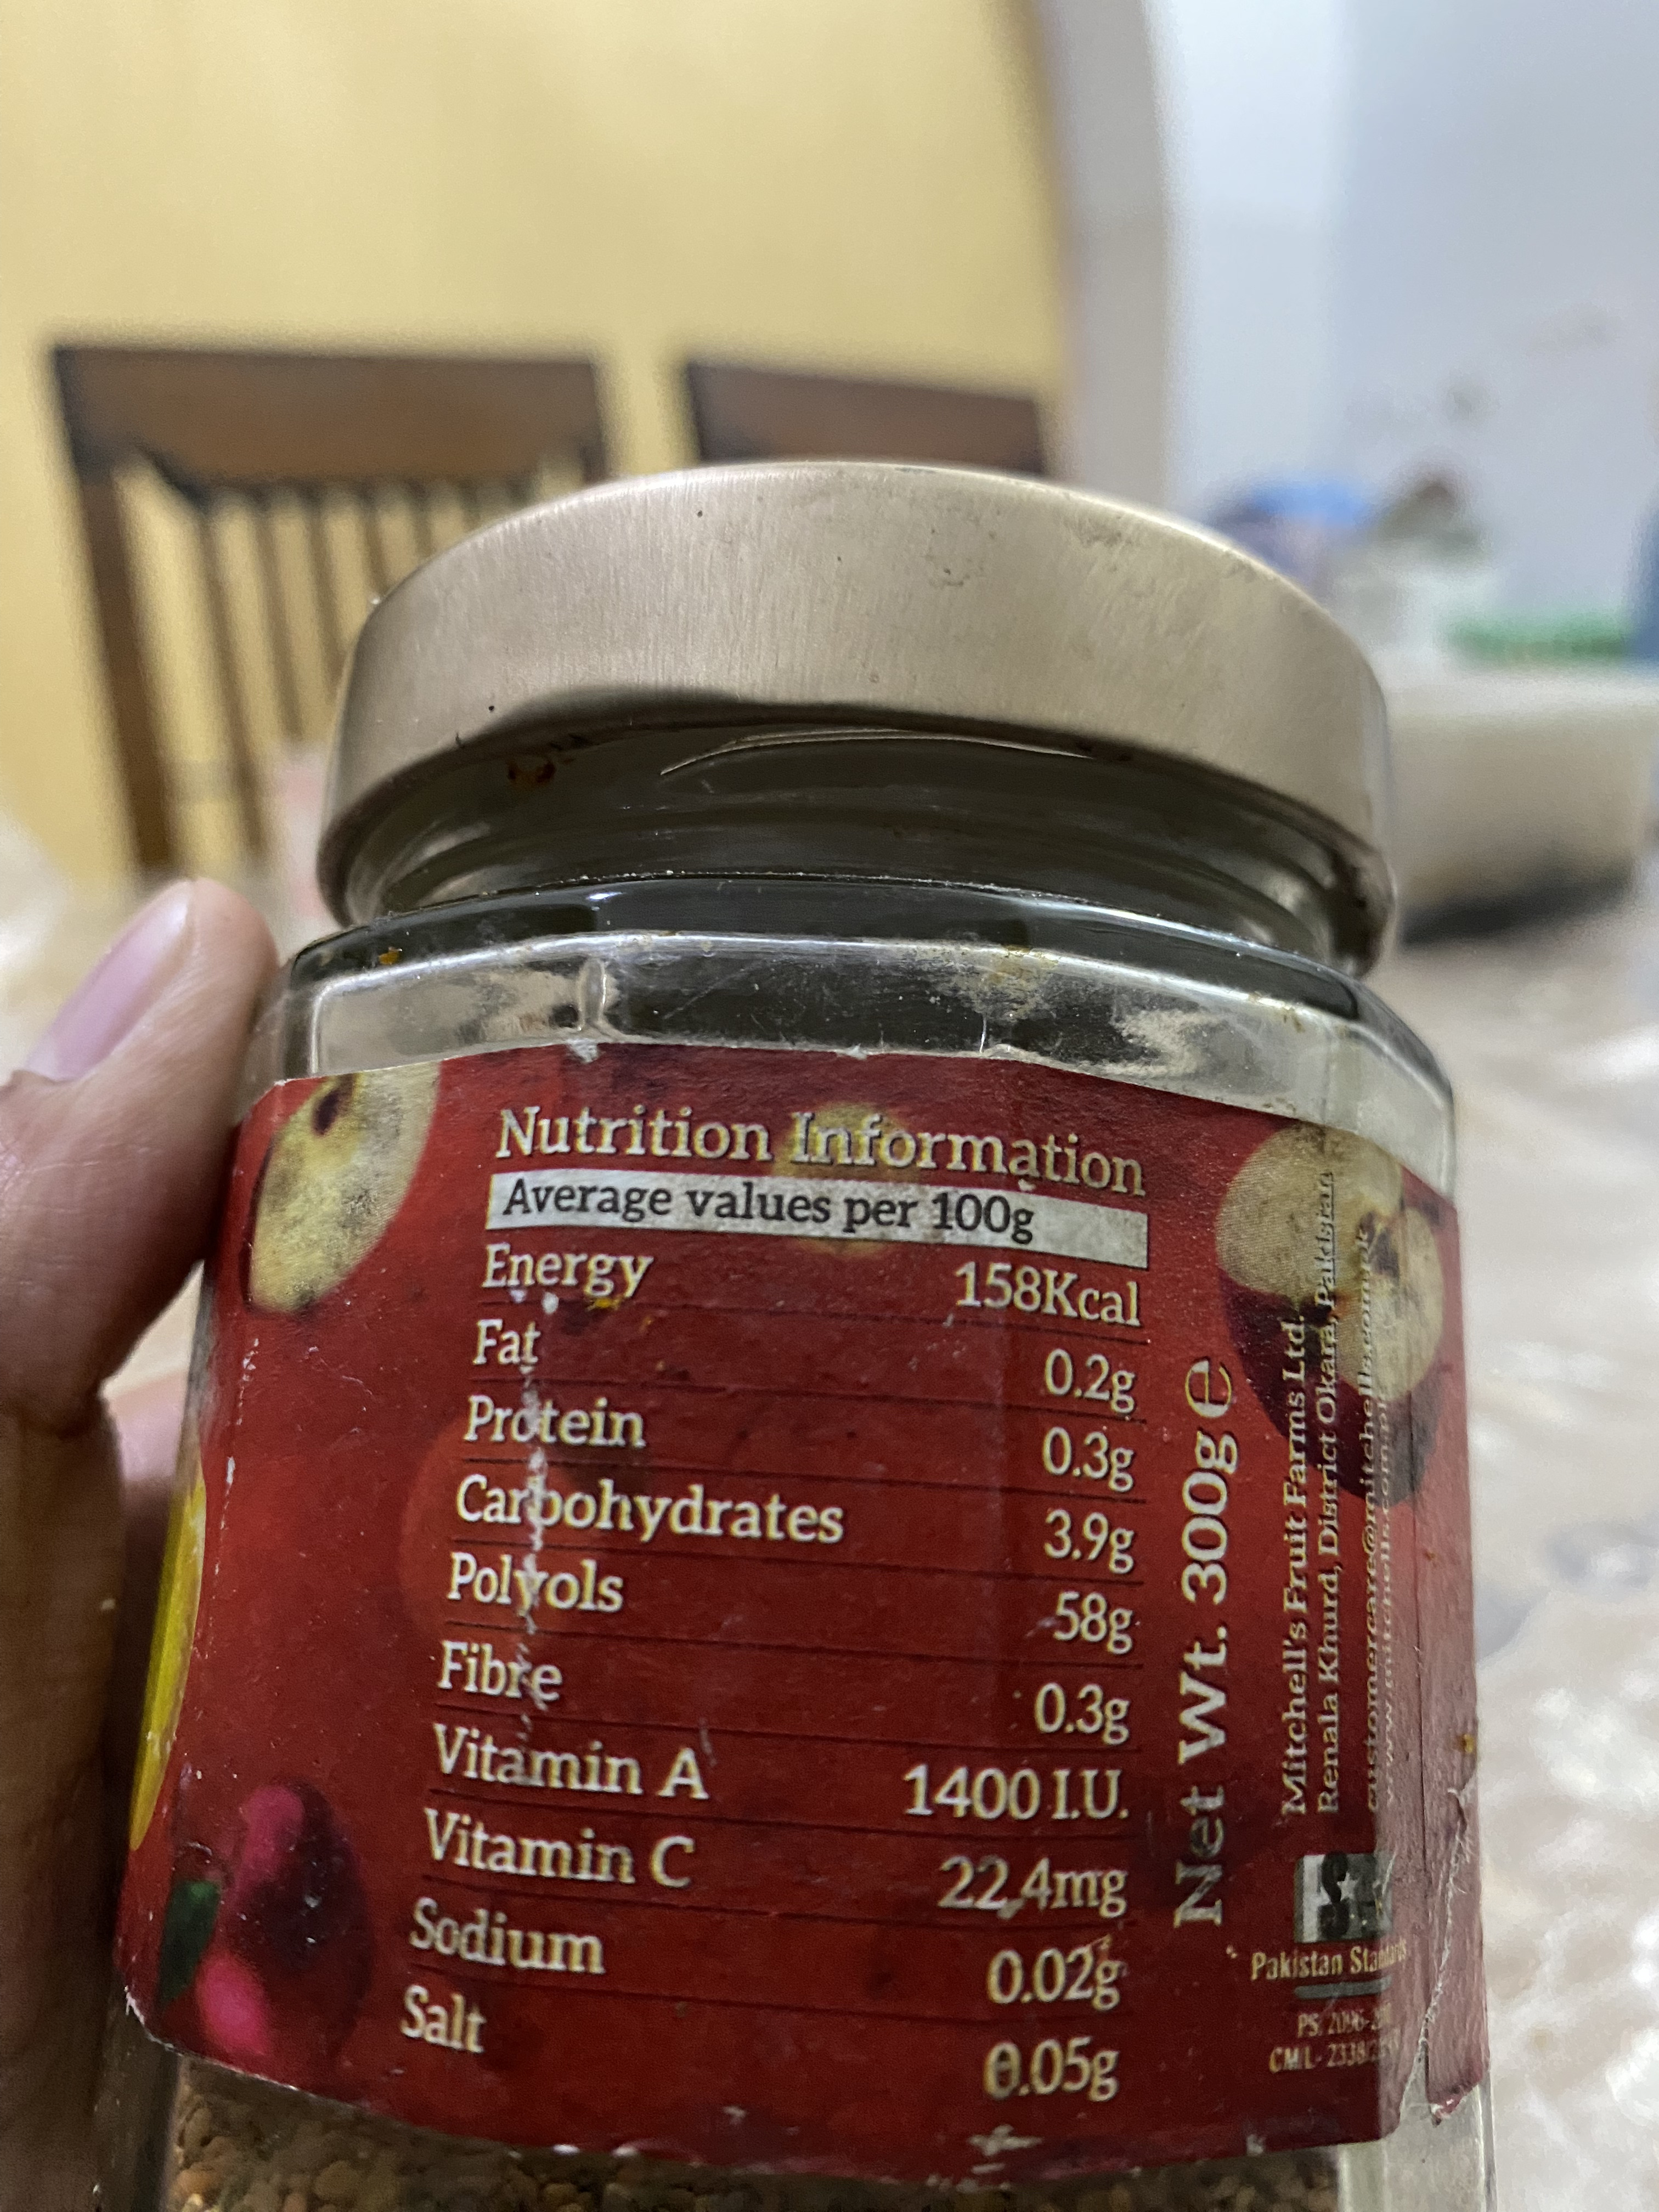table: (387, 1075, 1161, 2127)
